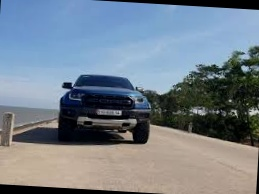Bien-so: (93, 106, 118, 113)
